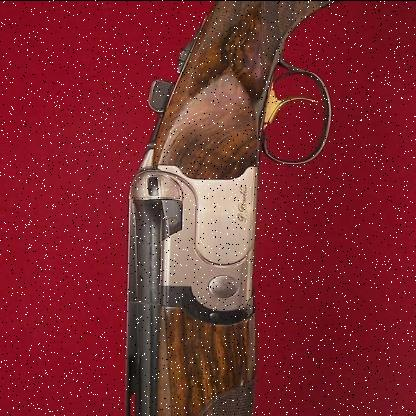rifle: (87, 13, 349, 416)
